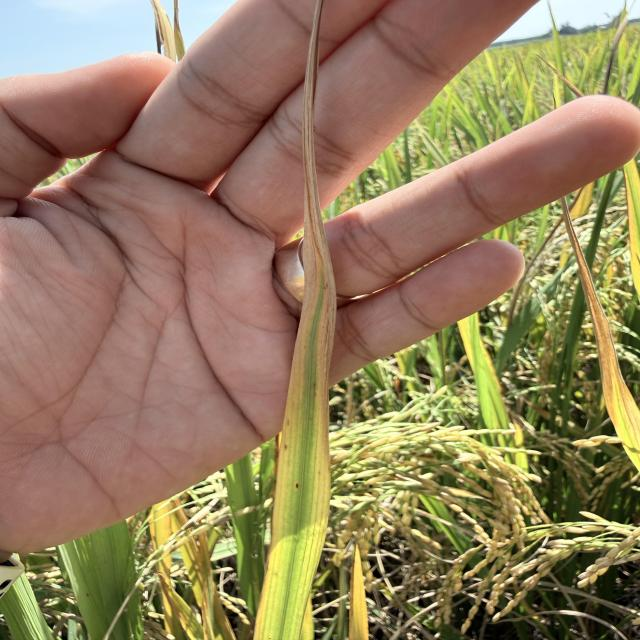Chay bia la: (277, 0, 337, 486)
